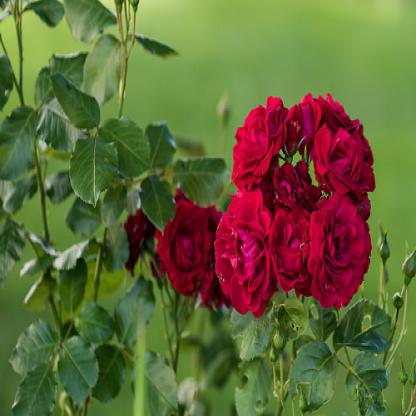Rose-Mawar: (208, 66, 379, 332), (166, 174, 213, 291)
